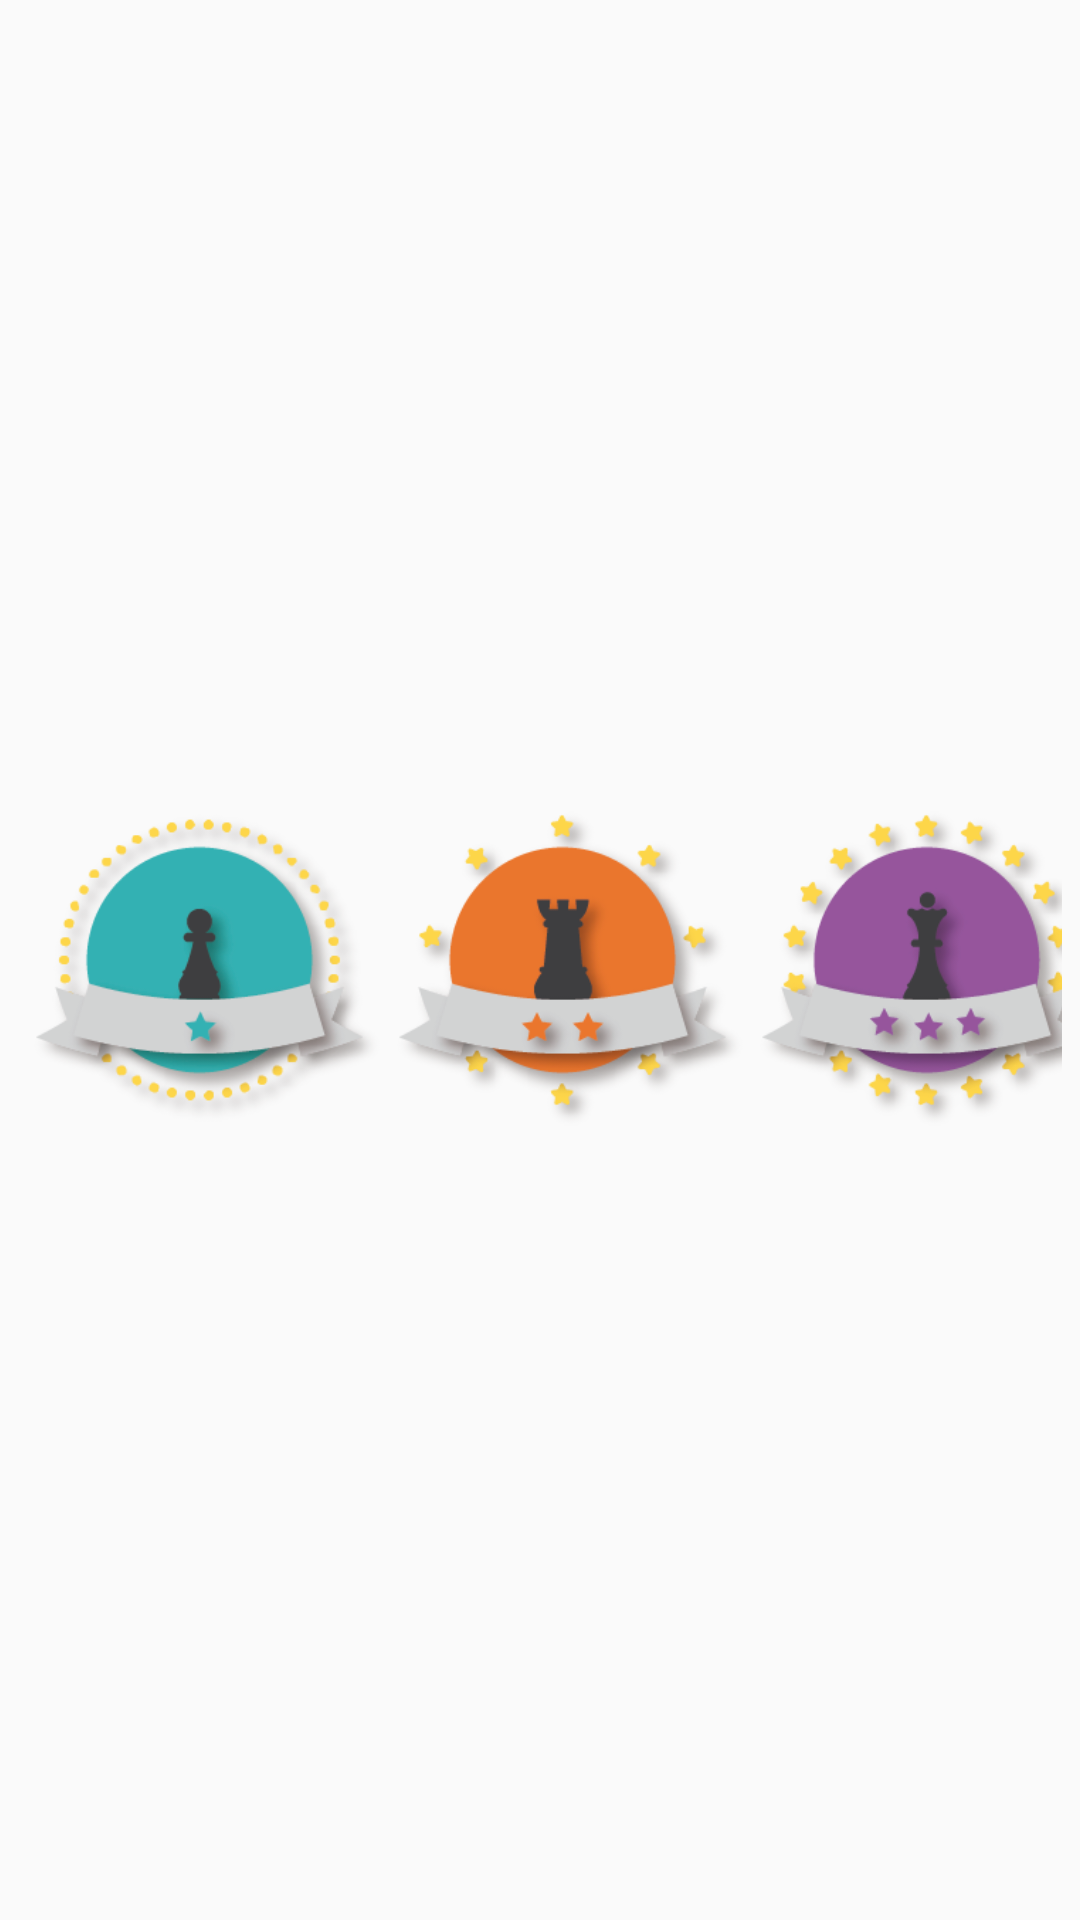

Icon bounding boxes for this 1080px x 1920px phone screenshot, format (x1, y1, x2, y2):
facil: (37, 819, 365, 1101)
medio: (400, 815, 728, 1114)
